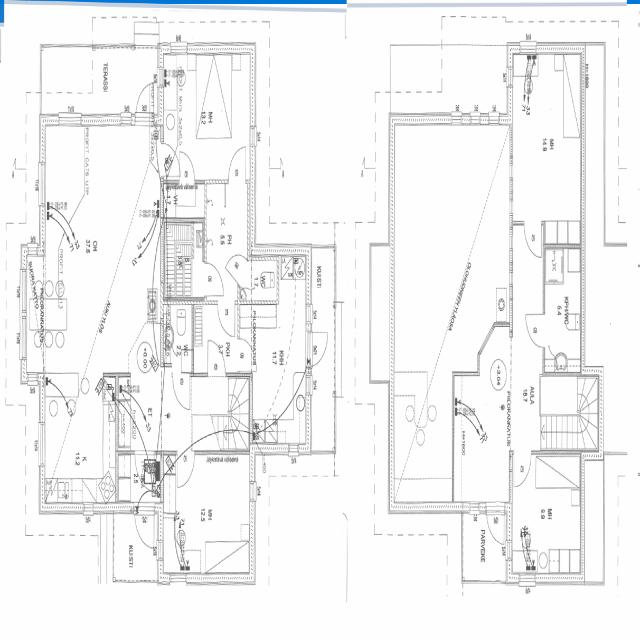door: (226, 243, 248, 286), (135, 503, 154, 551), (306, 332, 329, 366), (136, 80, 153, 126), (135, 451, 154, 492), (487, 502, 504, 547), (228, 146, 246, 184), (177, 451, 195, 488), (202, 263, 222, 296), (173, 372, 190, 409), (208, 339, 225, 376), (218, 300, 235, 337), (514, 450, 531, 487), (237, 338, 256, 371), (524, 222, 541, 258), (161, 144, 180, 176), (526, 315, 545, 347), (179, 150, 194, 183)
